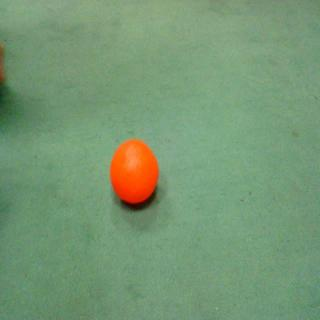orange: (110, 137, 161, 210)
